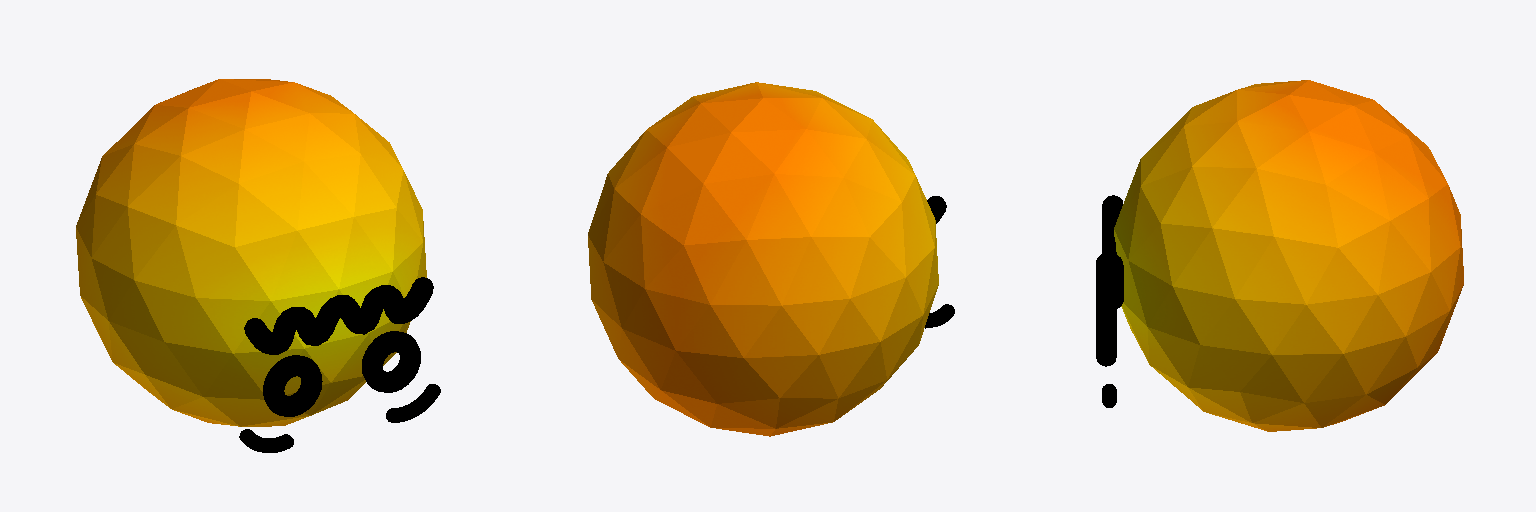
3 renders of one model, left to right at view 1: azimuth 30°, elevation 25°; view 2: azimuth 150°, elevation 25°; view 3: azimuth 270°, elevation 25°, orthographic.
Parts seen in each view (by area): view 1: GeoSphere005, Line001, Torus010, Torus009, Capsule008; view 2: GeoSphere005; view 3: GeoSphere005, Line001, Torus009.
Boxes of the visible parts, box(x1,y1,x2,y2) form: GeoSphere005: box(76, 79, 426, 426); Line001: box(244, 277, 433, 354); Torus010: box(263, 355, 322, 416); Torus009: box(362, 331, 420, 392); Capsule008: box(239, 384, 440, 452); GeoSphere005: box(588, 82, 938, 436); GeoSphere005: box(1114, 80, 1463, 431); Line001: box(1102, 195, 1123, 309); Torus009: box(1096, 302, 1116, 366).
Size of the model in its own units: 34.35 by 34.95 by 36.24.
2 materials, 1 textured.